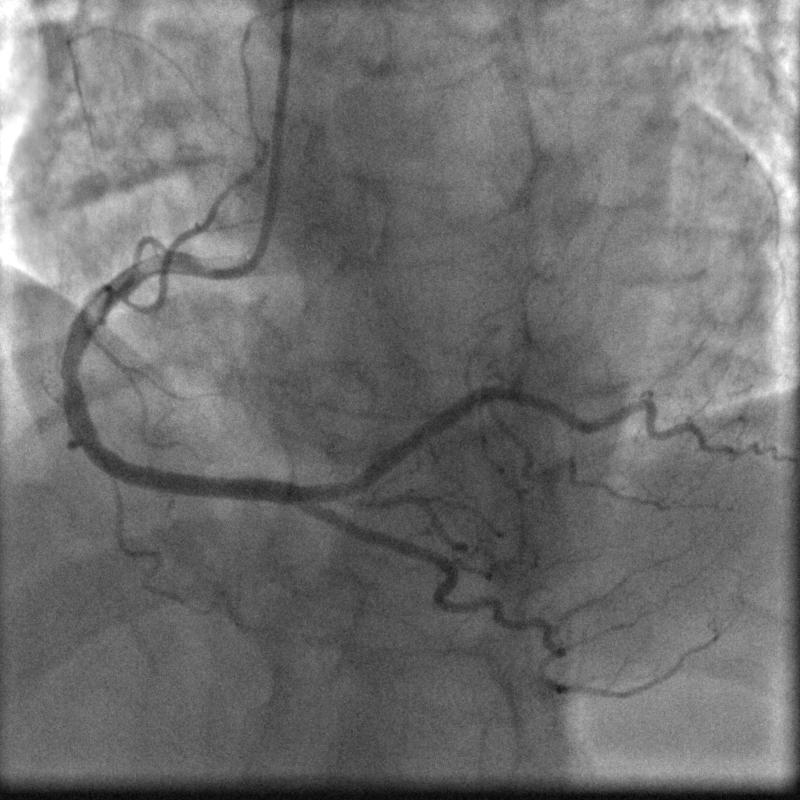Stenosis: (50, 354, 83, 400)
